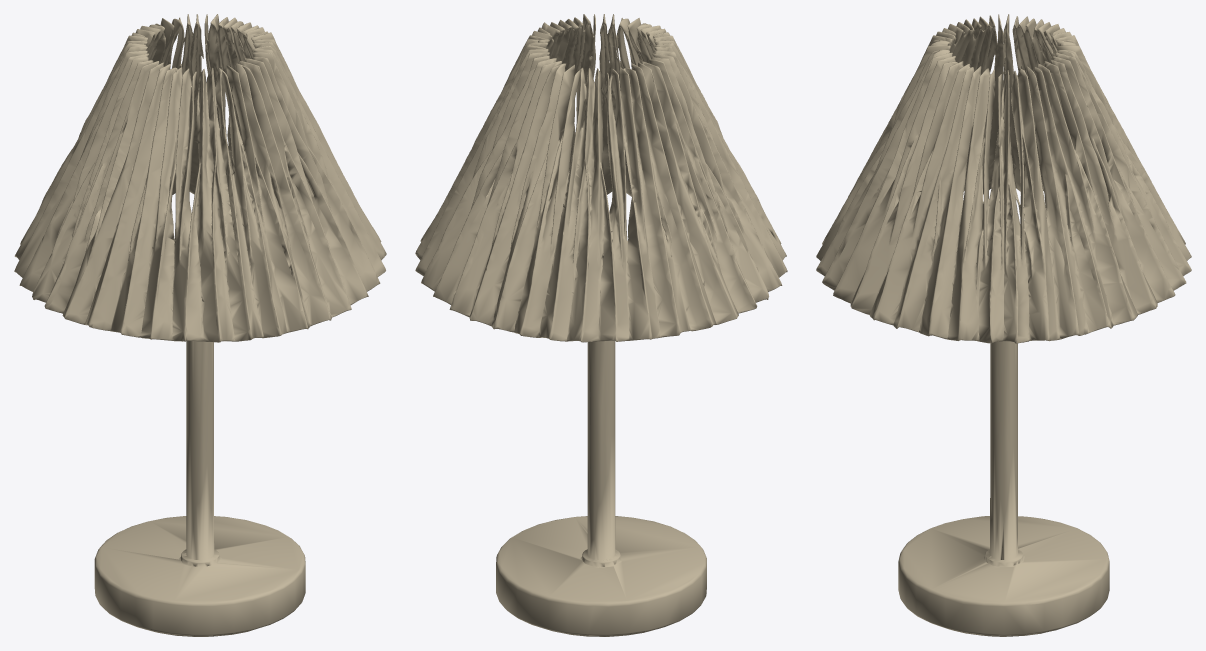
Rendered from gen-table-lamp-pleated-1.glb.
The picture shows the model from 3 angles, left to right: view 1: azimuth 30°, elevation 25°; view 2: azimuth 150°, elevation 25°; view 3: azimuth 270°, elevation 25°; orthographic projection.
Visible parts, largest first — view 1: gen-table-lamp-pleated-1_part1; view 2: gen-table-lamp-pleated-1_part1; view 3: gen-table-lamp-pleated-1_part1.
Boxes of the visible parts, bbox=[...] form: gen-table-lamp-pleated-1_part1: bbox=[14, 14, 386, 636]; gen-table-lamp-pleated-1_part1: bbox=[415, 14, 787, 636]; gen-table-lamp-pleated-1_part1: bbox=[816, 14, 1191, 636].
Bounding box in the file's own units: 282 × 460 × 283.
